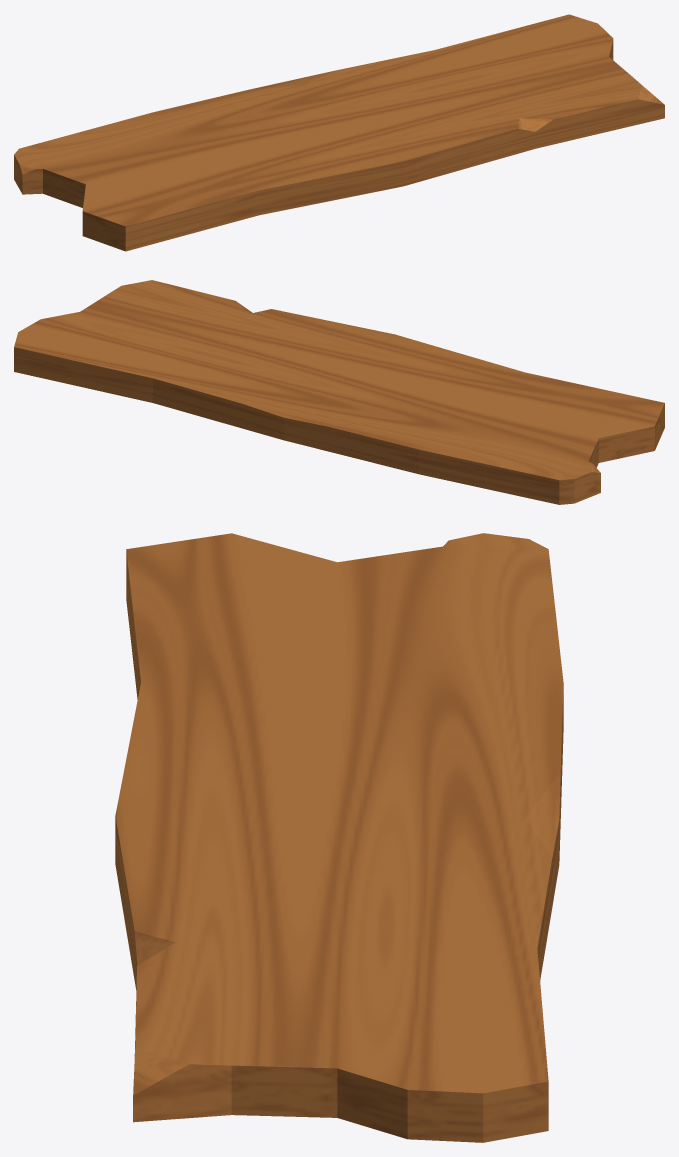
File: model_tabuapequena_01.fbx
3 renders of one model, top to bottom at view 1: azimuth 30°, elevation 25°; view 2: azimuth 150°, elevation 25°; view 3: azimuth 270°, elevation 25°, orthographic. The views are drawn at different scales.
Visible parts, largest first — view 1: tabua pequena; view 2: tabua pequena; view 3: tabua pequena.
Part boxes in pixels (<box>): tabua pequena: <box>14,14,664,251</box>; tabua pequena: <box>14,280,664,504</box>; tabua pequena: <box>115,533,563,1142</box>.
Size of the model in its own units: 6.31 by 0.2614 by 2.12.
1 material, 1 textured.
